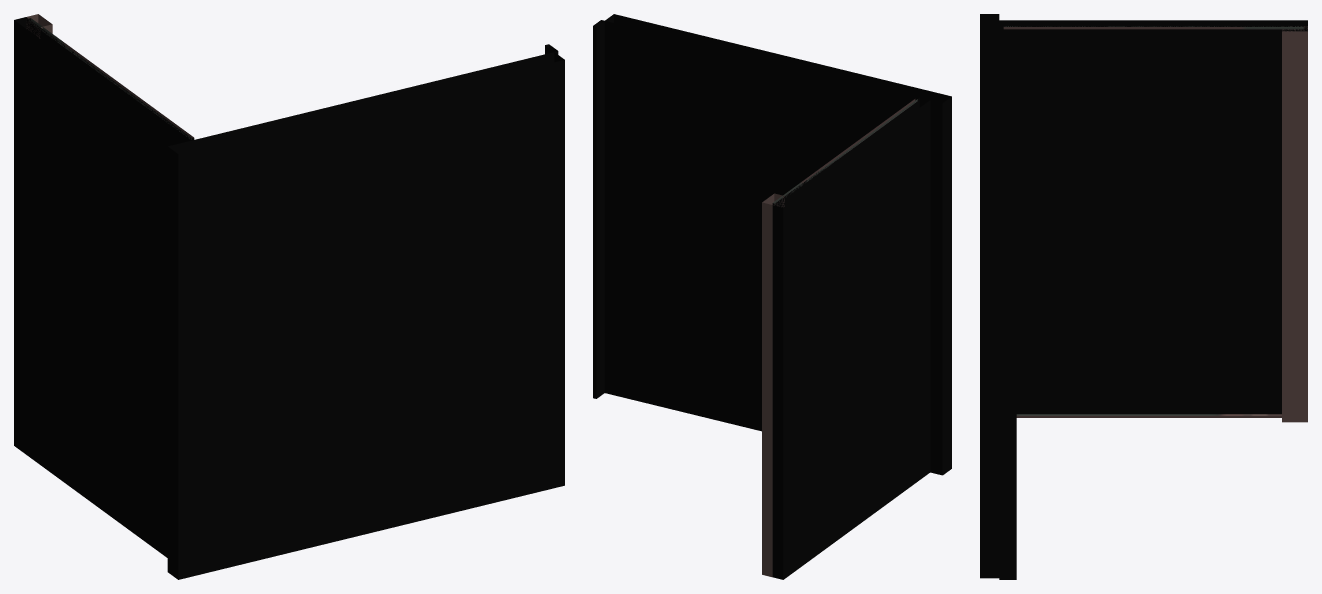
File: section-9.obj
3 views of the same model, side by side, from view 1: azimuth 30°, elevation 25°; view 2: azimuth 150°, elevation 25°; view 3: azimuth 270°, elevation 25° (orthographic). The views are drawn at different scales.
Bounding box in the file's own units: 0.96 × 1 × 0.76.
